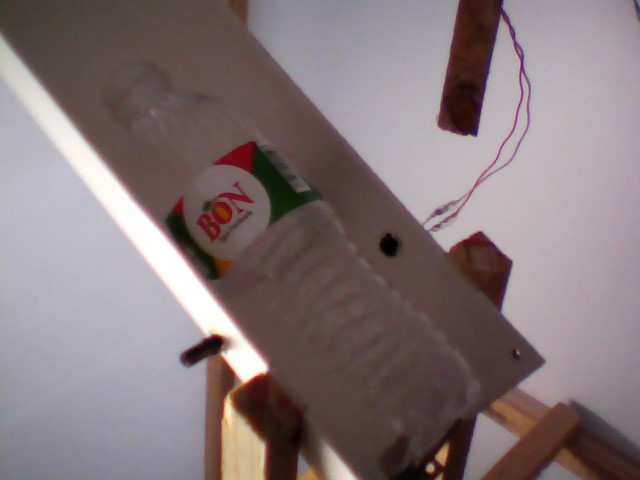plastico: (89, 41, 499, 480)
